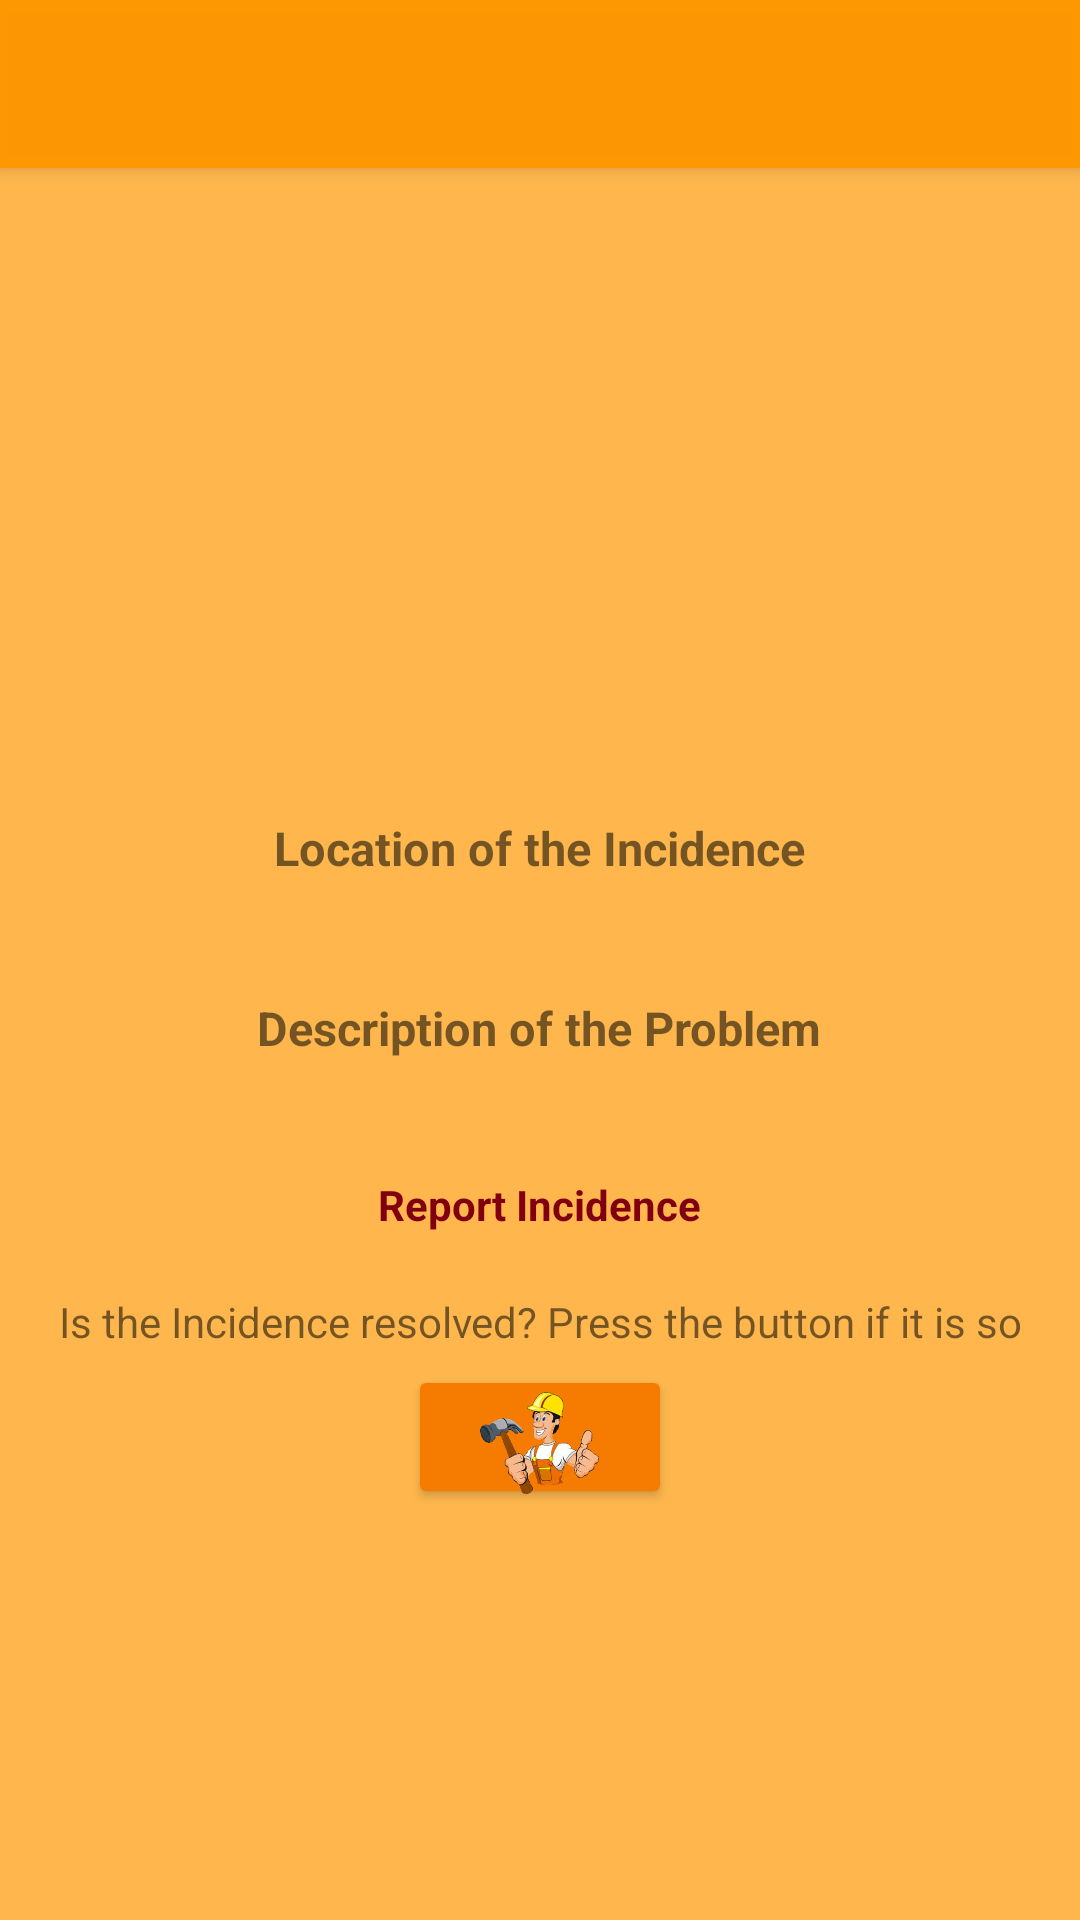

Screen size 1080w x 1920h. Icon name, then its center in pixels as point (x, y):
obrero: point (540, 1440)
